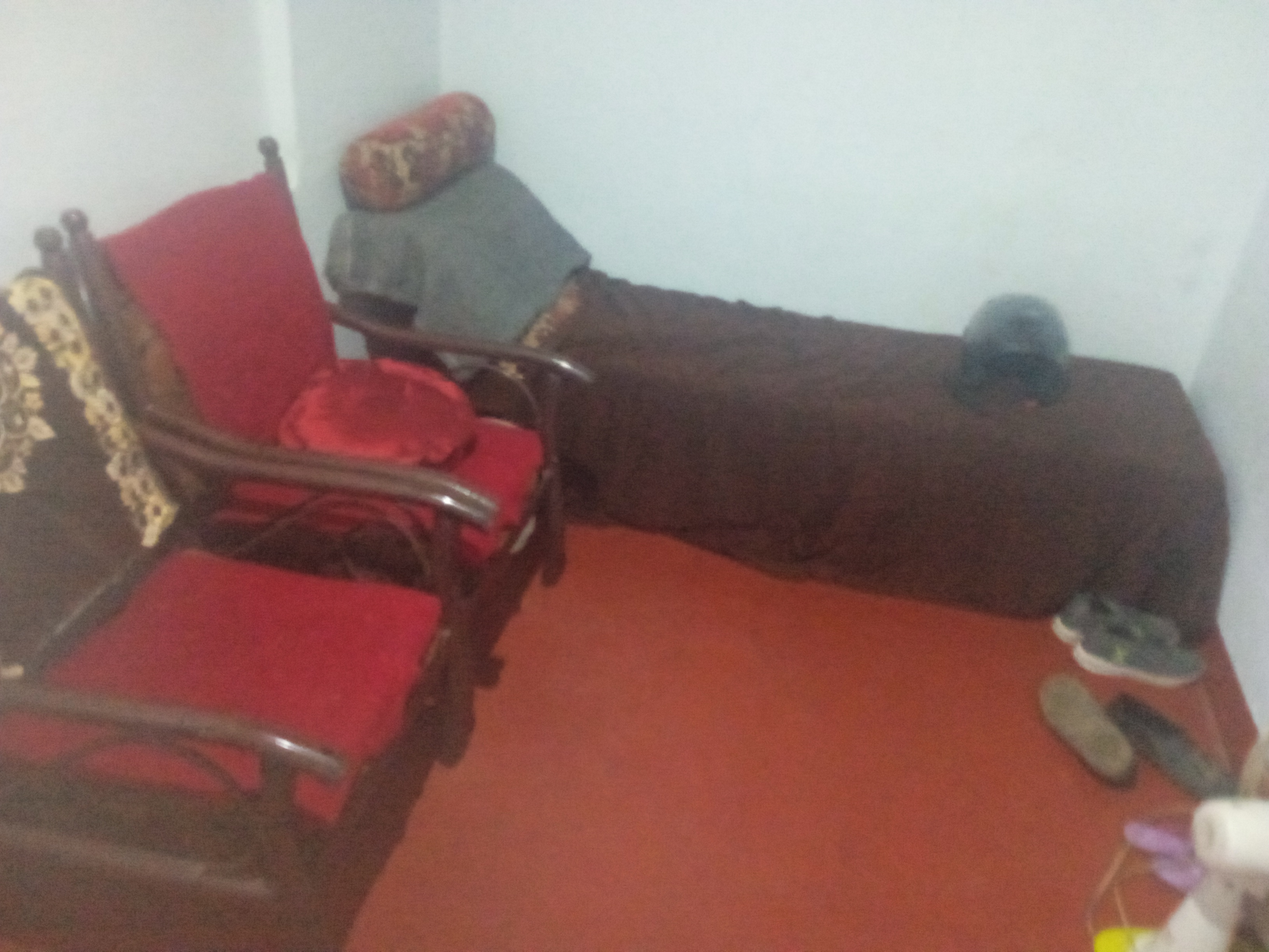bed: (323, 149, 1228, 632)
sofa: (0, 227, 491, 952), (63, 128, 601, 749)
